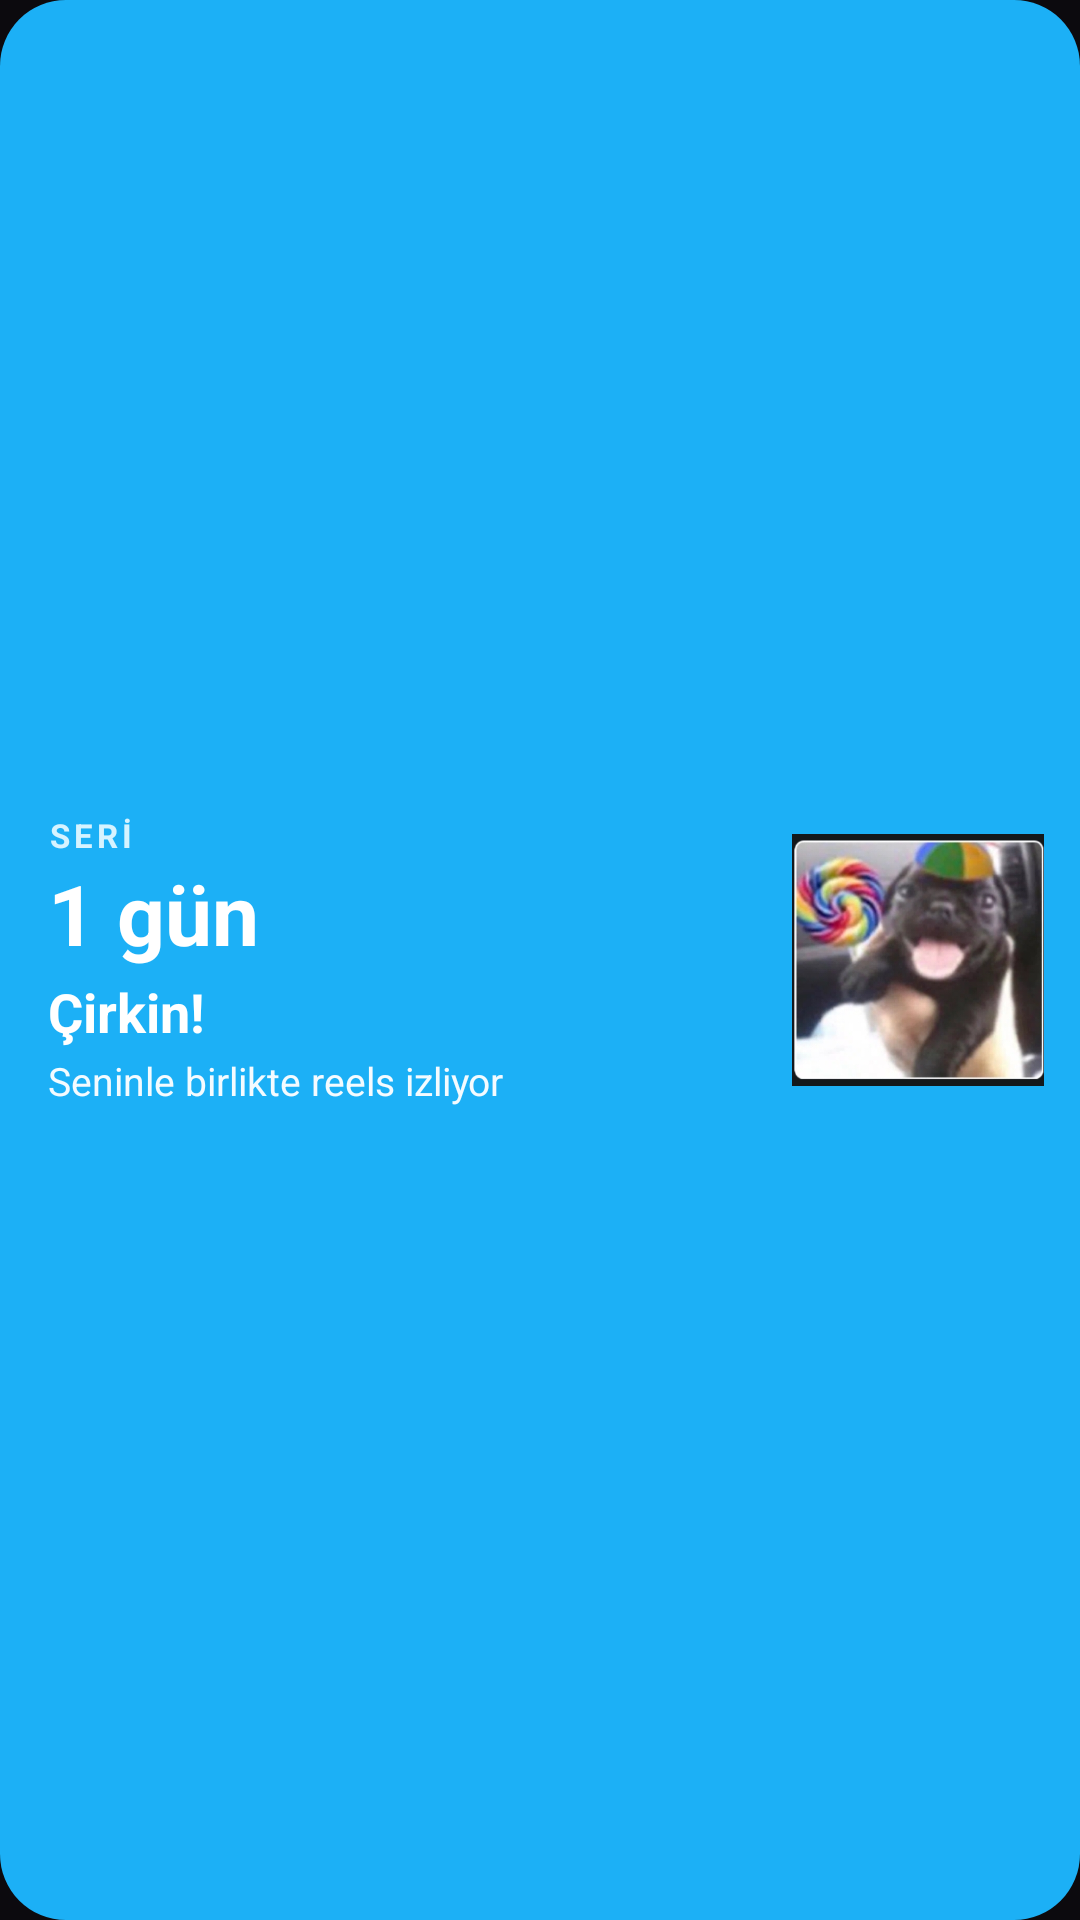

Icon click points for this 1080w x 1920h phone screenshot, format [x,y]:
Çirkin Köpek: [918,960]
